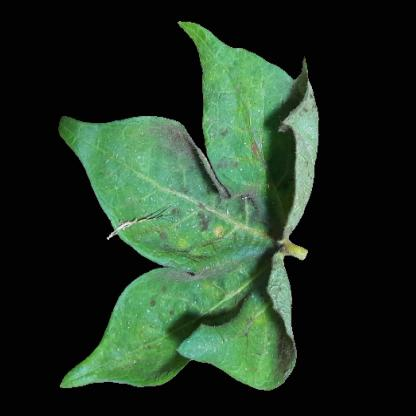curl_stage1: (227, 57, 269, 133), (291, 104, 319, 194), (173, 326, 231, 367)
curl_stage2: (263, 273, 290, 324)
healthy: (105, 305, 141, 385), (77, 125, 123, 174)
sooty: (183, 175, 259, 257), (157, 258, 217, 299), (157, 125, 191, 161)
